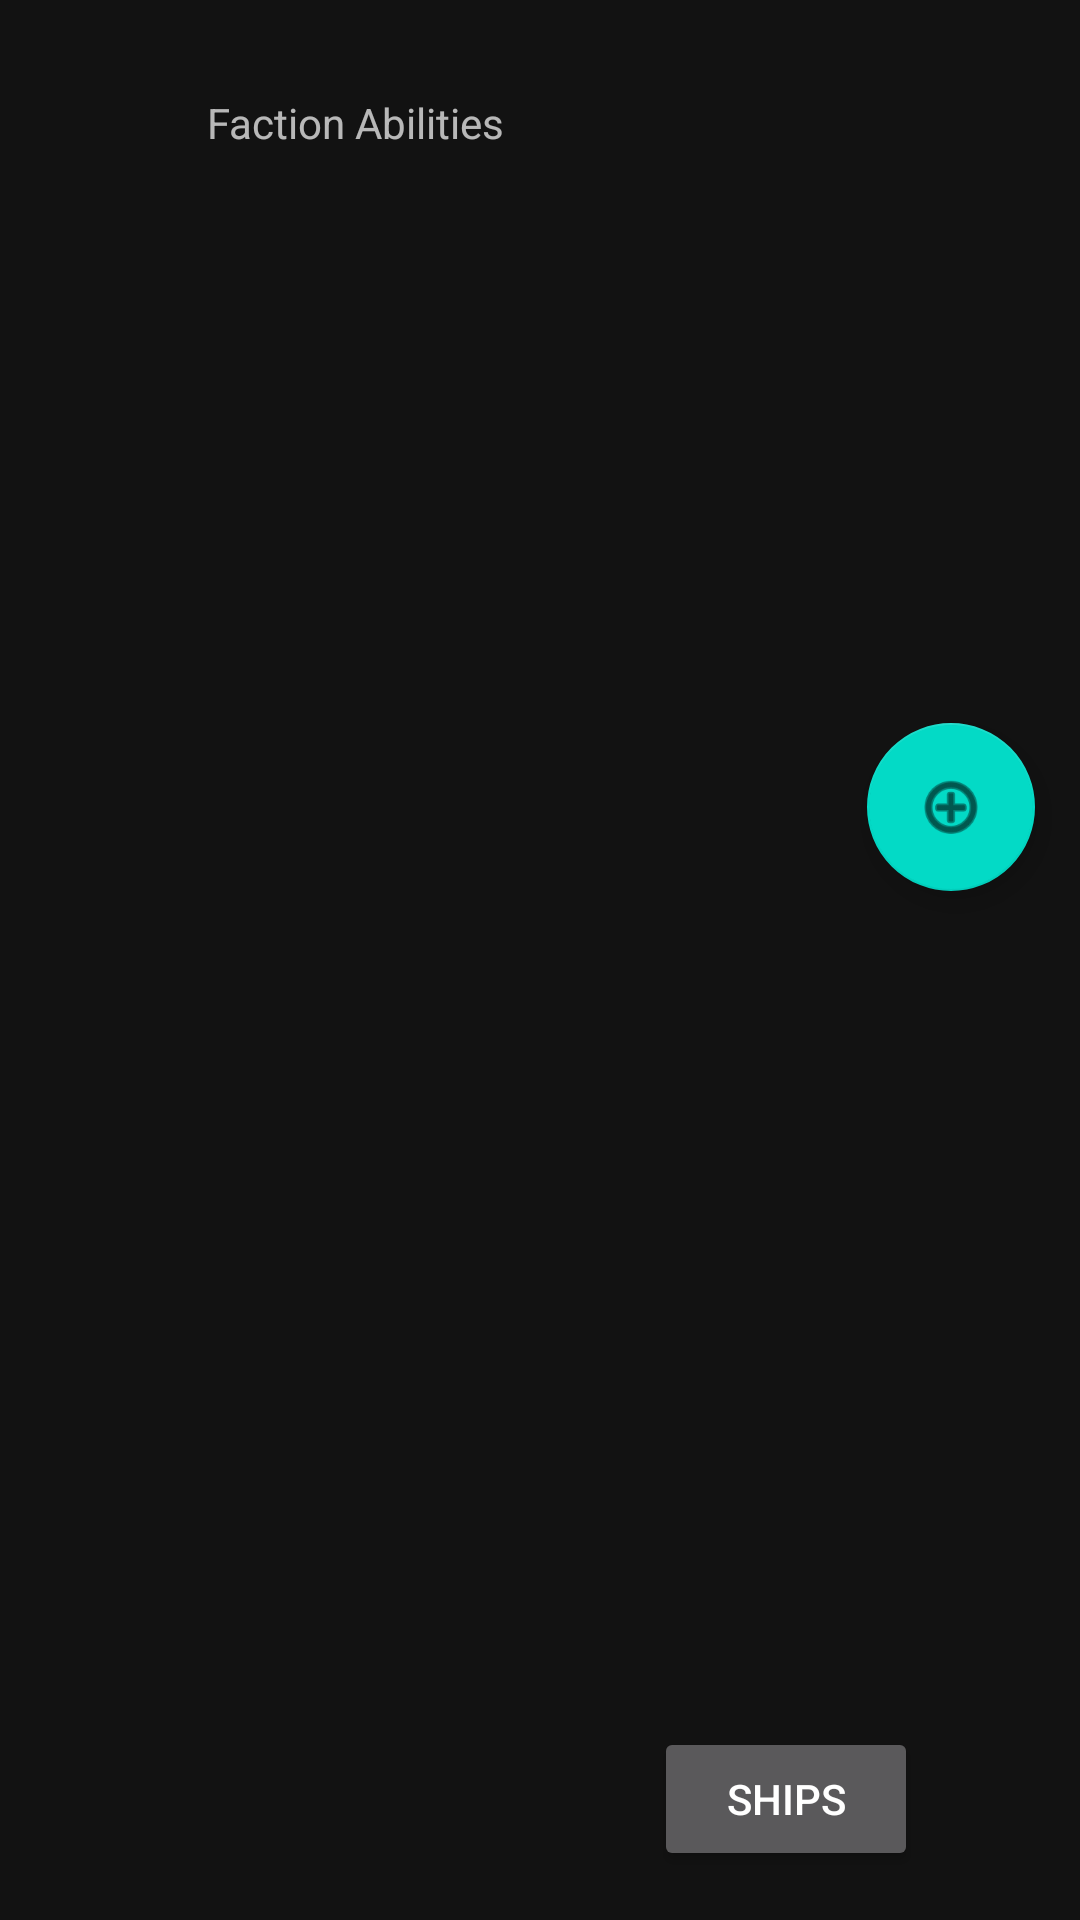

Named icons in this screenshot (1080×1920) and their bounding boxes, bbox=(x1, y1, x2, y2):
add: bbox=(867, 723, 1035, 891)
